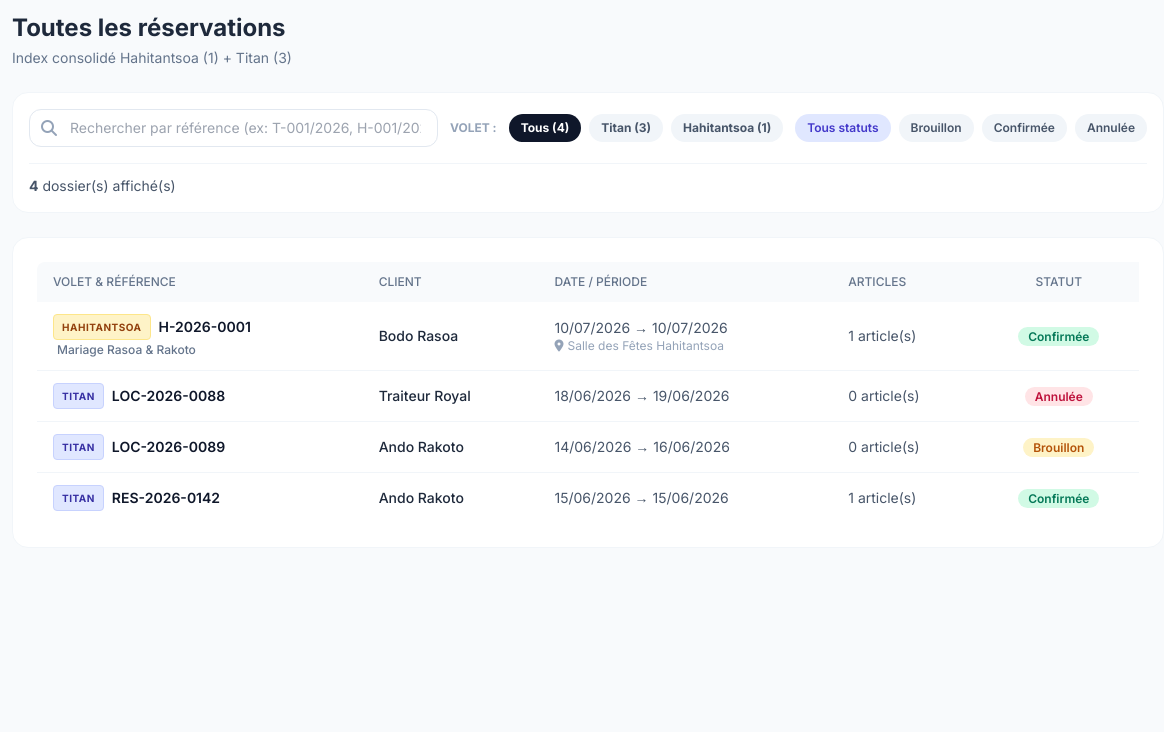
Test: ReservationsPage › filtre par volet Titan et Hahitantsoa
Expected: the button "H-2026-0001" is shown, x1=158 y1=317 x2=251 y2=337
// Filter Titan
Click the button "Titan (3)". click: (626, 128)
box: x1=589 y1=114 x2=663 y2=142
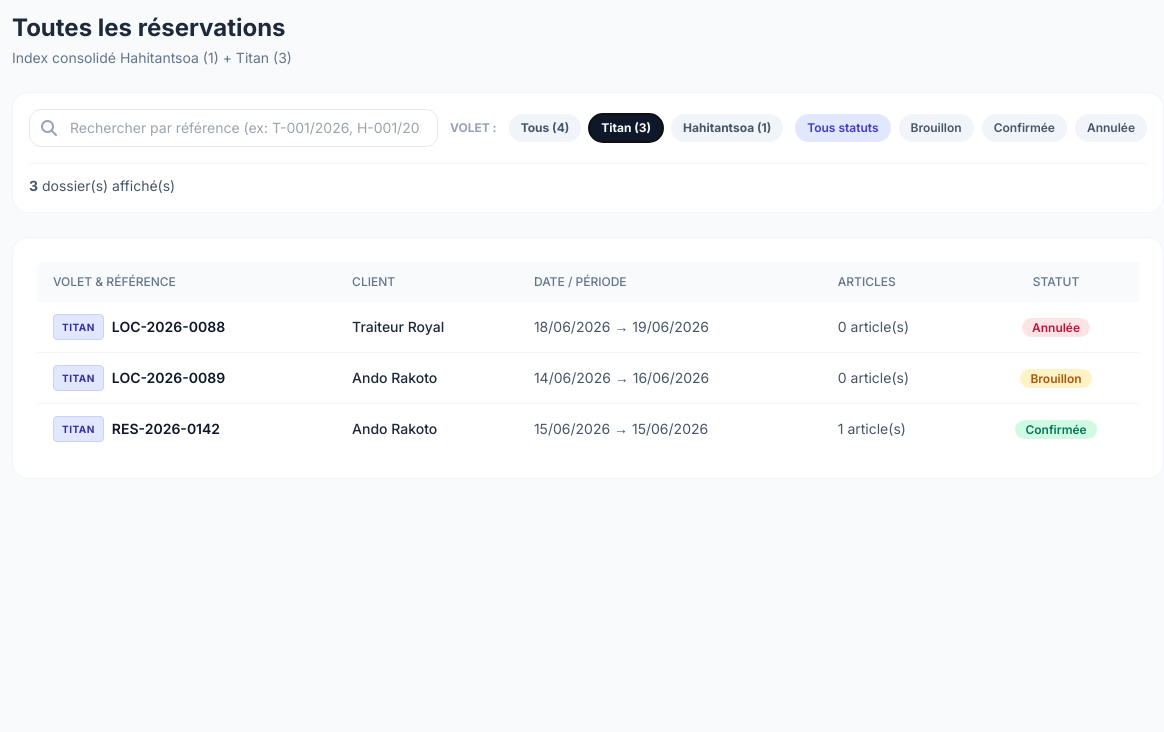
Expected: the button "LOC-2026-0089" is shown, x1=112 y1=368 x2=225 y2=388
Now the button "H-2026-0001" is gone
// Filter Hahitantsoa
Click the button "Hahitantsoa (1)". click: (727, 128)
box: x1=671 y1=114 x2=783 y2=142
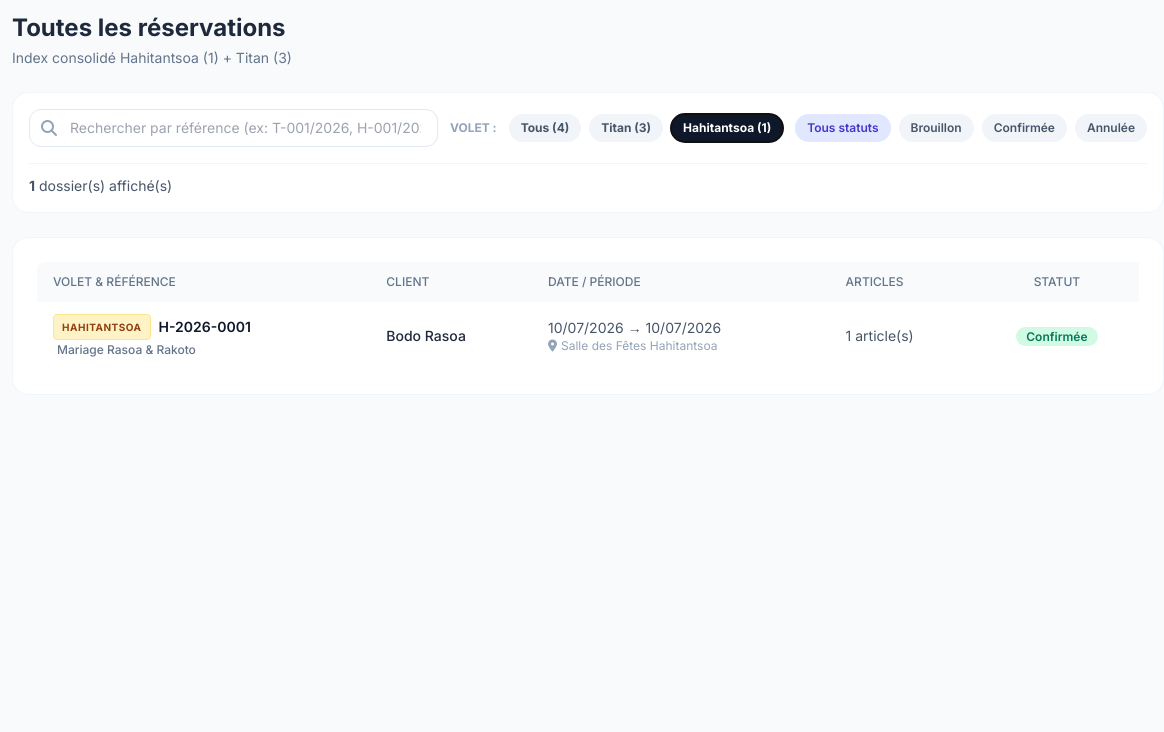
Now the button "H-2026-0001" is shown, box x1=158 y1=317 x2=251 y2=337
Now the button "LOC-2026-0089" is gone
